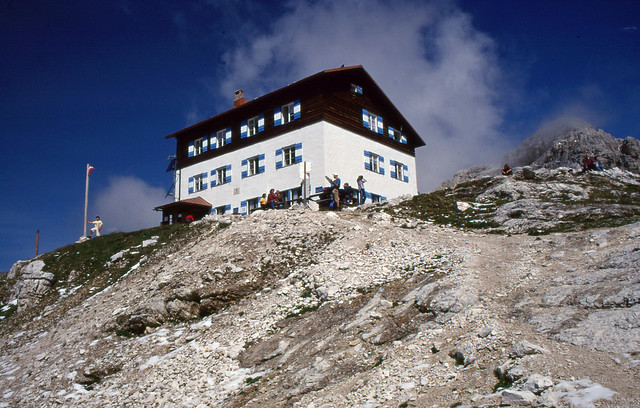low: (155, 62, 423, 232)
